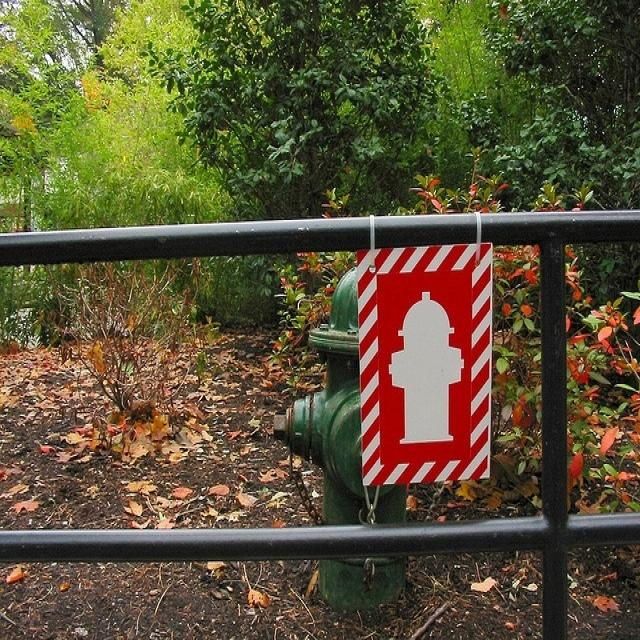fire_hydrant: (265, 201, 562, 640)
